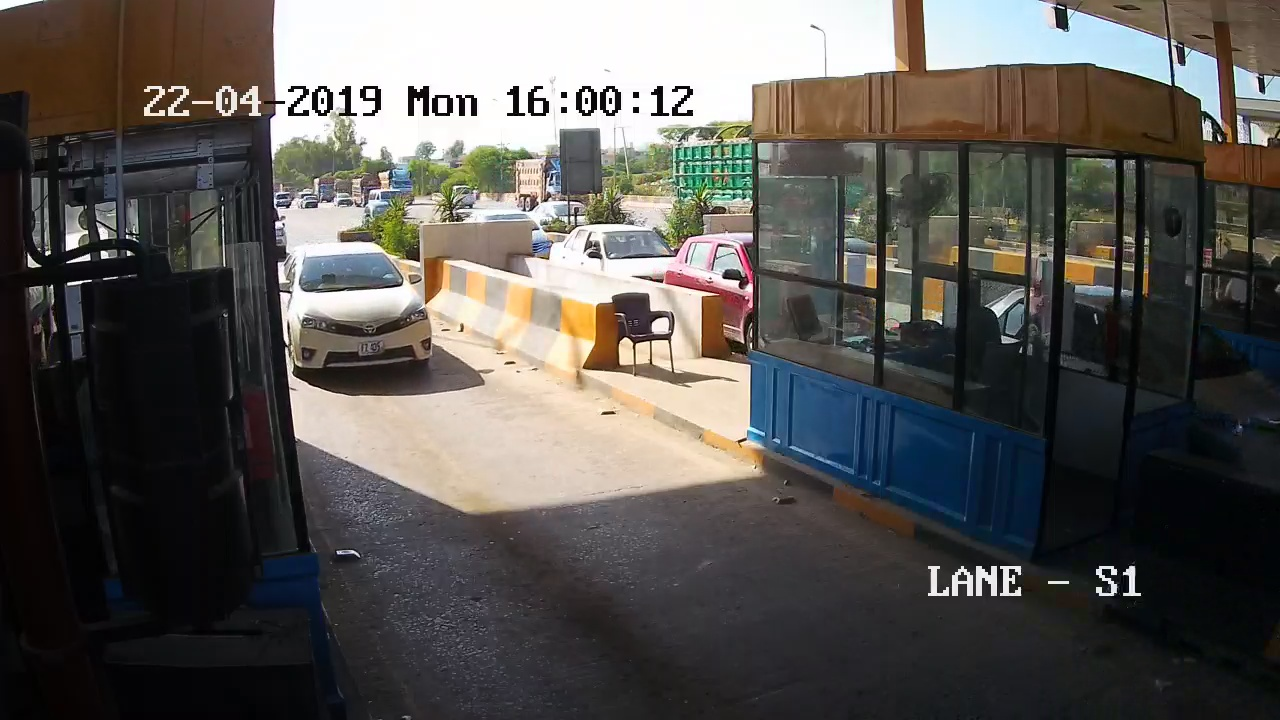car: (286, 235, 451, 391)
